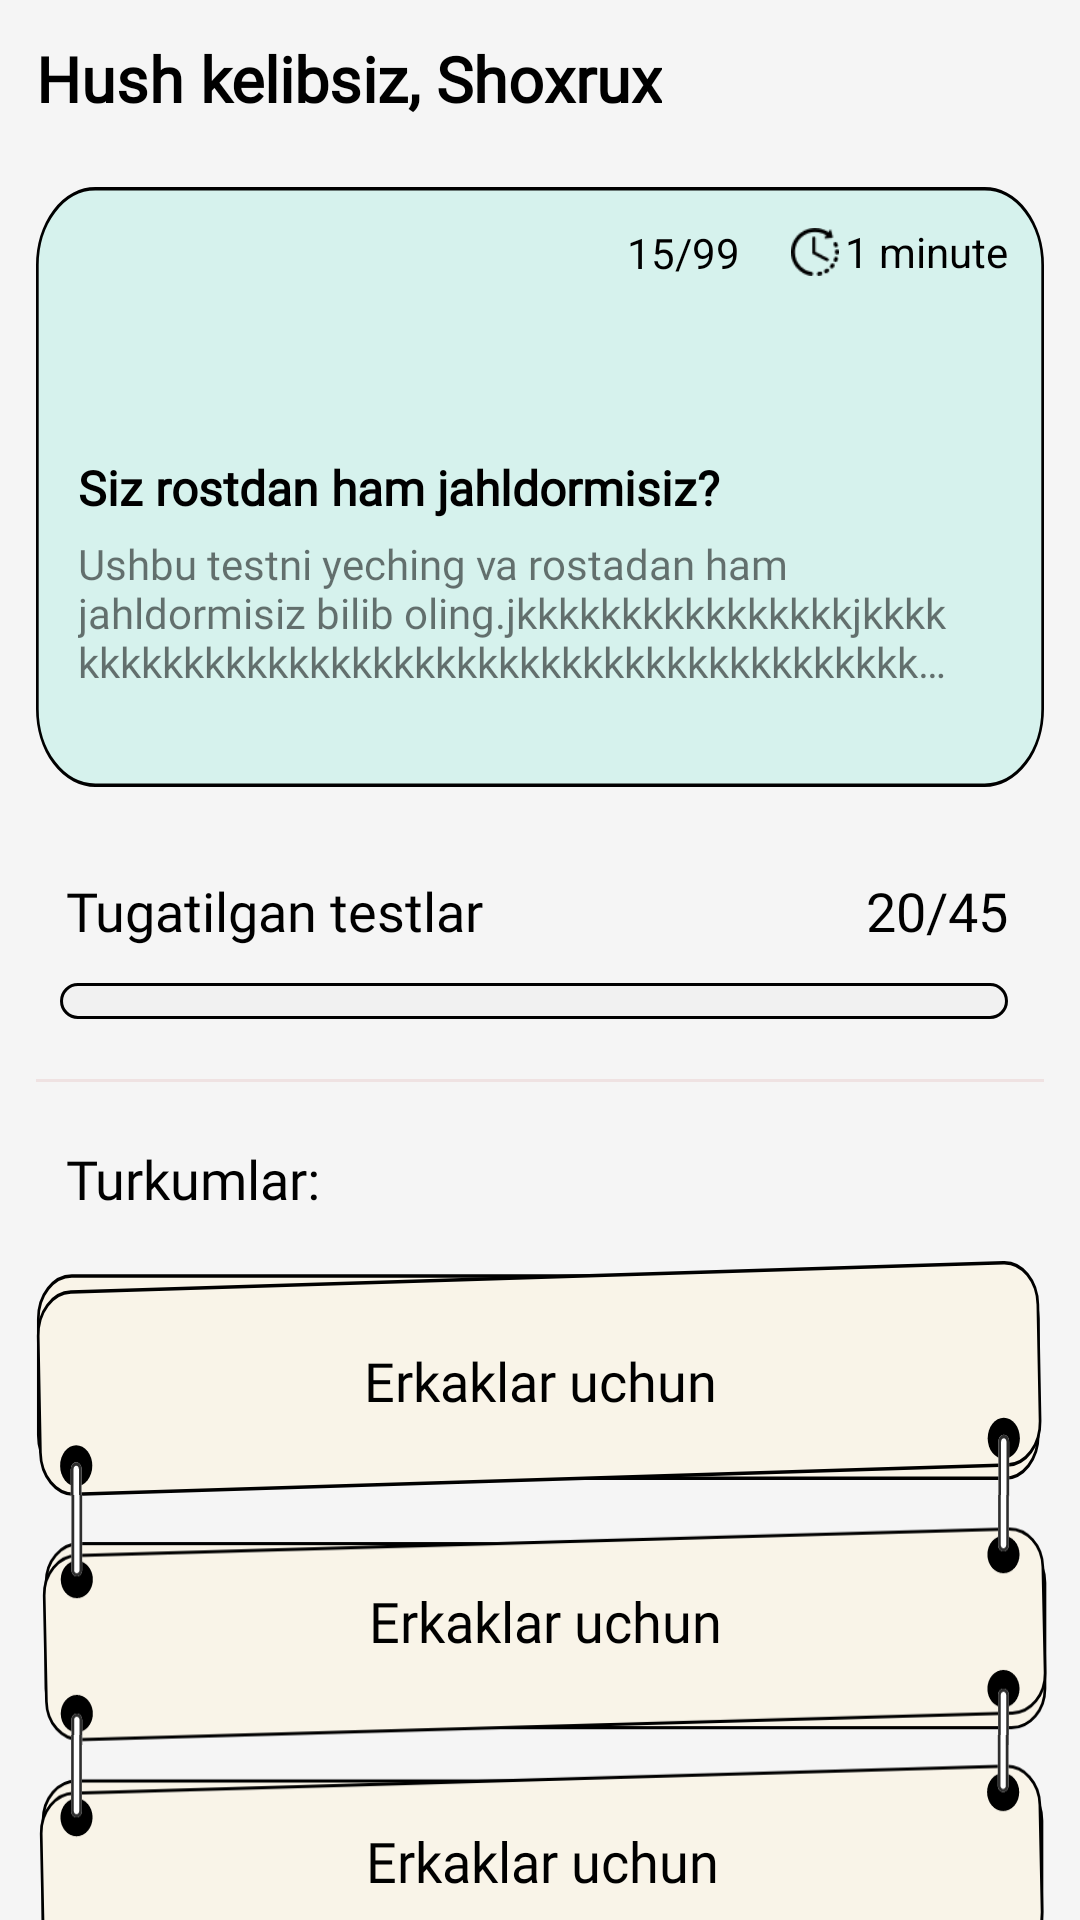

Where to tap for icons on this 1080px×1920px app screen, as (x,y):
soat: (815,252)
